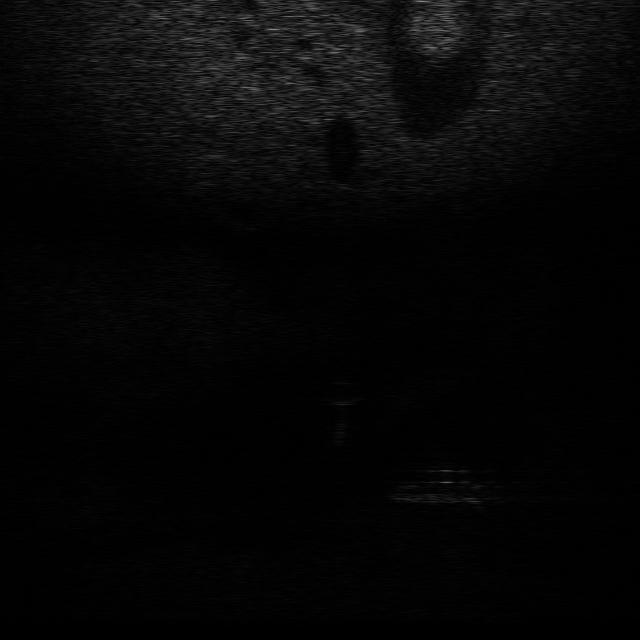ball: (317, 376, 363, 409)
tyre: (381, 471, 505, 507)
